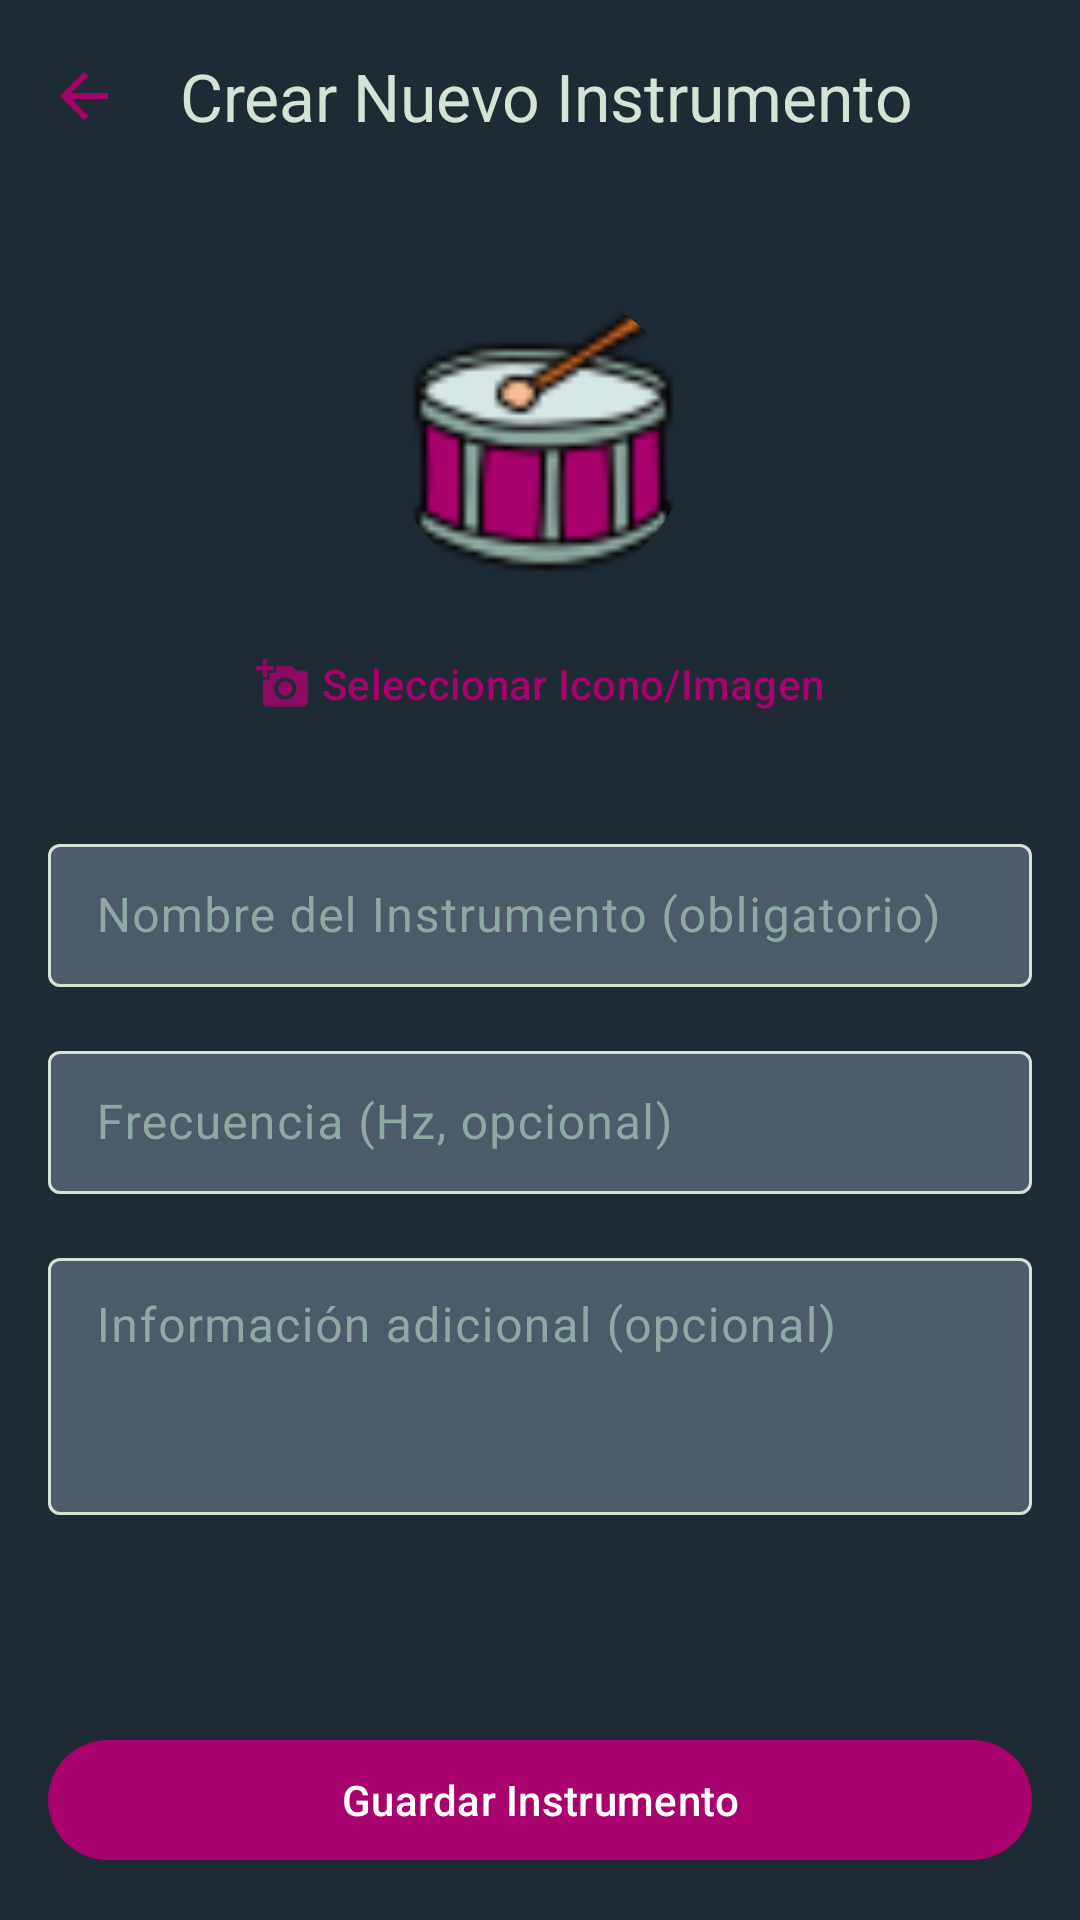

Screen size 1080*1920. Icon name, then its center in pixels as [x,y]:
Icono del instrumento: [543,442]
